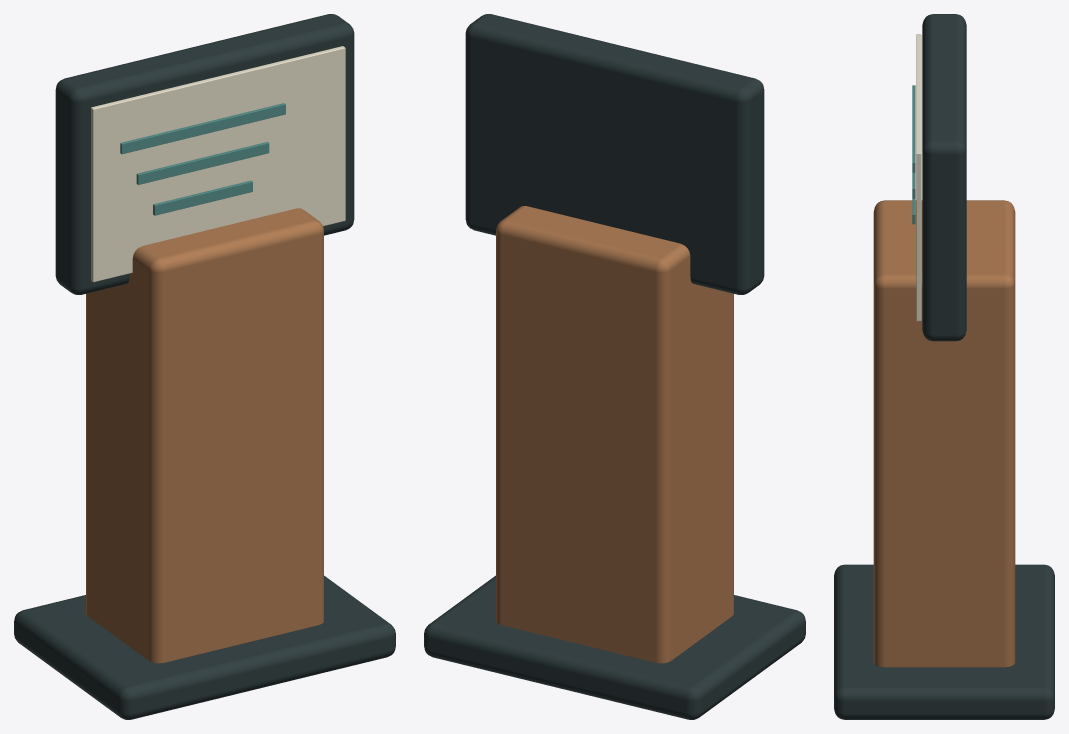
Rendered from instructions.glb.
3 views of the same model, side by side, from view 1: azimuth 30°, elevation 25°; view 2: azimuth 150°, elevation 25°; view 3: azimuth 270°, elevation 25° (orthographic). The views are drawn at different scales.
Parts seen in each view (by area): view 1: instructions; view 2: instructions; view 3: instructions.
Boxes of the visible parts, bbox=[...] form: instructions: bbox=[14, 14, 395, 719]; instructions: bbox=[424, 14, 805, 719]; instructions: bbox=[834, 14, 1054, 719].
Bounding box in the file's own units: 0.72 × 1.45 × 0.5.
